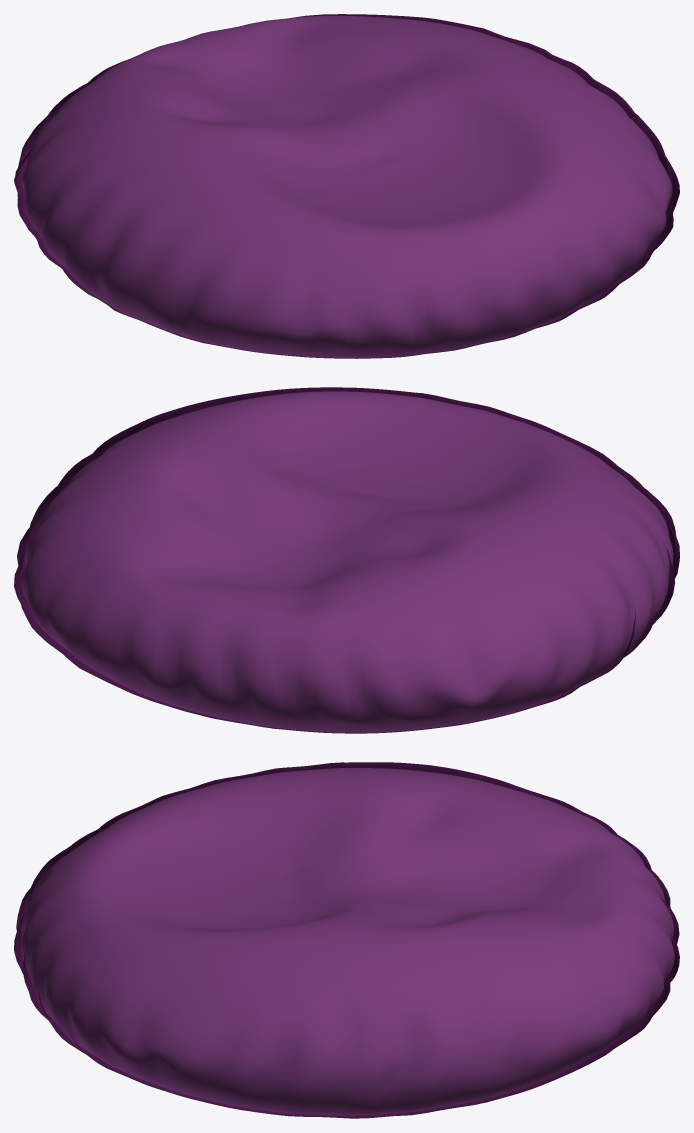
Rendered from yastık.fbx.
3 renders of one model, top to bottom at view 1: azimuth 30°, elevation 25°; view 2: azimuth 150°, elevation 25°; view 3: azimuth 270°, elevation 25°, orthographic. The views are drawn at different scales.
Visible parts, largest first — view 1: AllCatStuff1_pCylinder17; view 2: AllCatStuff1_pCylinder17; view 3: AllCatStuff1_pCylinder17.
Boxes of the visible parts, x1,y1,x2,y2 form: AllCatStuff1_pCylinder17: [14, 14, 679, 358]; AllCatStuff1_pCylinder17: [14, 387, 679, 733]; AllCatStuff1_pCylinder17: [14, 762, 679, 1118].
Bounding box in the file's own units: 445 × 106 × 448.
